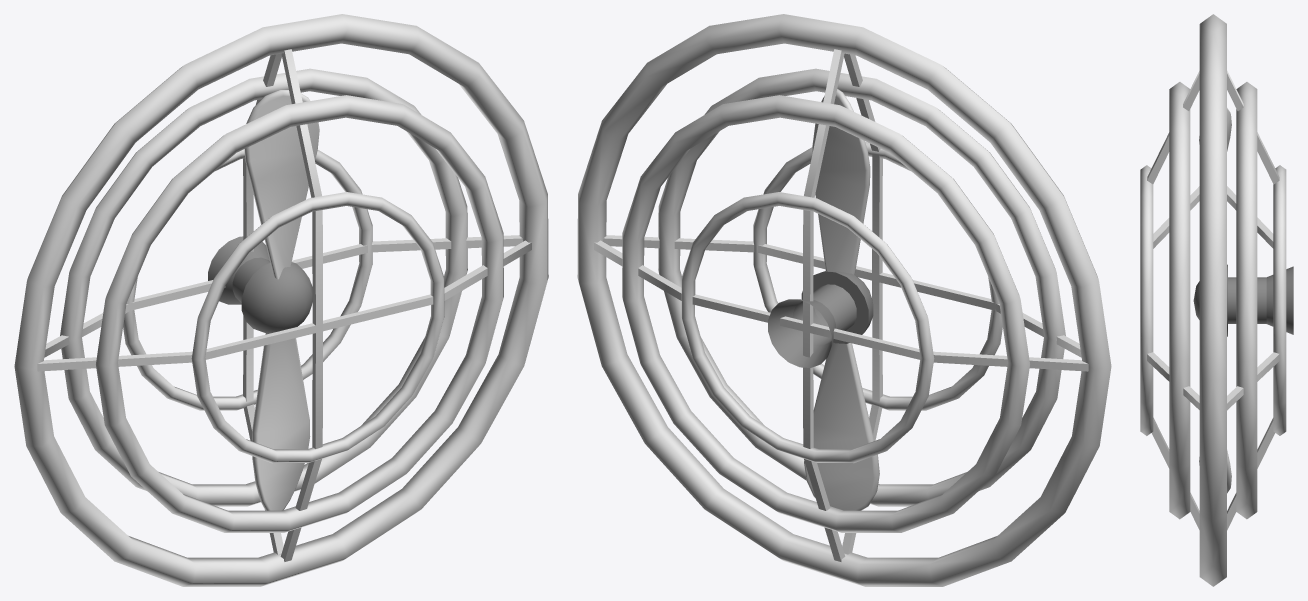
The model's file is propeller_futuristic_1.fbx.
3 renders of one model, left to right at view 1: azimuth 30°, elevation 25°; view 2: azimuth 150°, elevation 25°; view 3: azimuth 270°, elevation 25°, orthographic. The views are drawn at different scales.
Visible parts, largest first — view 1: propeller_futuristic_1; view 2: propeller_futuristic_1; view 3: propeller_futuristic_1.
Part boxes in pixels (<box>): propeller_futuristic_1: <box>14,14,548,586</box>; propeller_futuristic_1: <box>577,14,1111,586</box>; propeller_futuristic_1: <box>1140,14,1293,586</box>.
Bounding box in the file's own units: 186 × 186 × 49.83.
